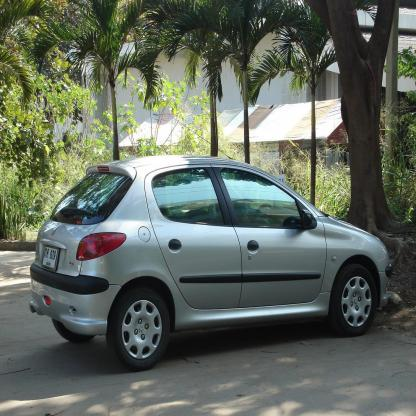Car: (30, 149, 393, 371)
